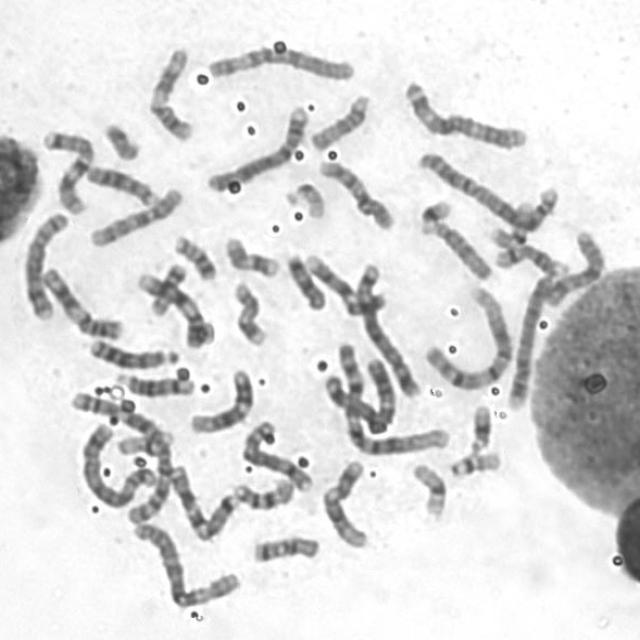A1: (328, 342, 453, 458), (420, 280, 516, 393)
A2: (67, 386, 175, 526), (412, 146, 560, 232)
A3: (398, 75, 530, 151), (322, 346, 398, 435)
B4: (201, 100, 311, 195), (502, 268, 561, 412)
B5: (350, 257, 424, 400), (75, 418, 161, 510)
C10: (84, 182, 185, 249), (313, 154, 398, 232)
C11: (36, 261, 126, 342), (143, 42, 198, 144)
C12: (316, 455, 371, 550), (185, 364, 256, 436)
C6: (127, 518, 241, 609), (201, 40, 359, 84)
C7: (165, 458, 240, 543), (38, 122, 97, 217)
C8: (17, 206, 73, 324), (237, 415, 315, 495)
C9: (131, 264, 213, 350), (300, 249, 388, 317)
D13: (79, 159, 160, 208), (85, 333, 181, 370)
D14: (489, 239, 572, 279), (110, 366, 196, 398)
D15: (426, 215, 494, 283), (305, 88, 373, 152)
E16: (486, 195, 539, 250), (227, 473, 297, 512)
E17: (220, 230, 282, 280), (228, 277, 270, 348)
E18: (280, 248, 328, 312), (248, 530, 322, 566)
F19: (406, 457, 449, 521), (112, 424, 177, 458)
F20: (168, 230, 220, 283), (145, 259, 189, 318)
G21: (414, 193, 454, 236), (464, 399, 494, 455)
G22: (280, 178, 328, 222), (444, 445, 504, 479)
X: (540, 225, 607, 308)
Y: (98, 117, 142, 162)
